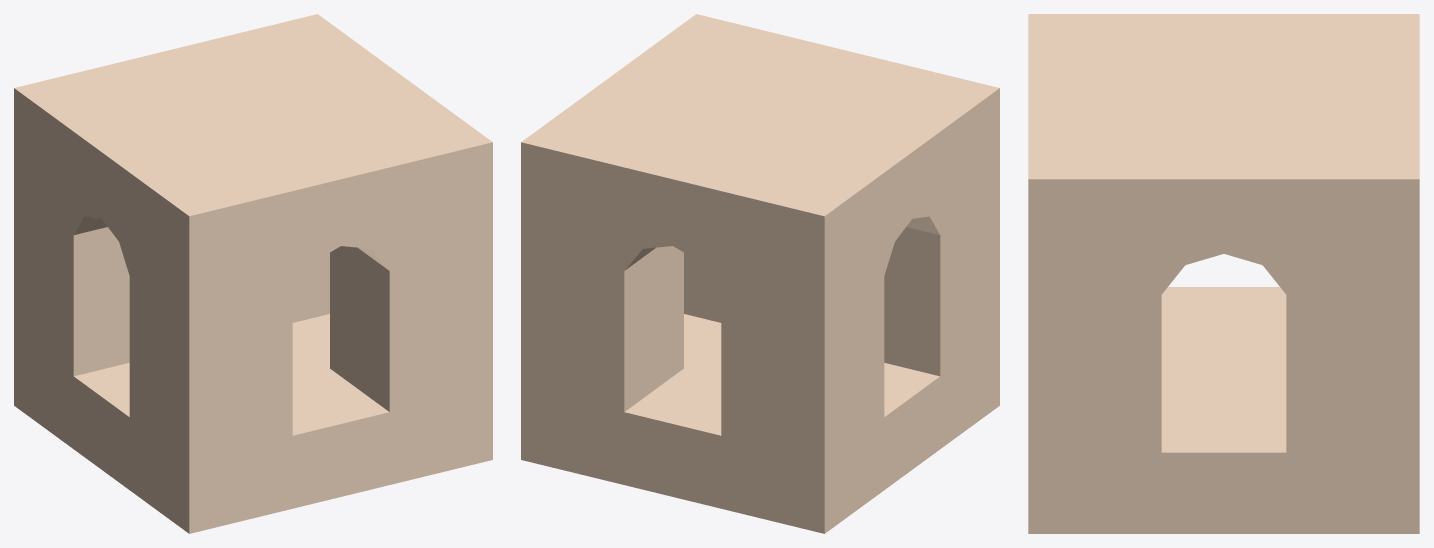
Rendered from Abstract_Castle_Block_1_Unit_Beige_Window_05.fbx.
The picture shows the model from 3 angles, left to right: view 1: azimuth 30°, elevation 25°; view 2: azimuth 150°, elevation 25°; view 3: azimuth 270°, elevation 25°; orthographic projection. The views are drawn at different scales.
Visible parts, largest first — view 1: Model; view 2: Model; view 3: Model.
Boxes of the visible parts, bbox=[...] form: Model: bbox=[14, 14, 492, 533]; Model: bbox=[521, 14, 999, 533]; Model: bbox=[1028, 14, 1419, 533].
Size of the model in its own units: 1000 by 1000 by 1000.
